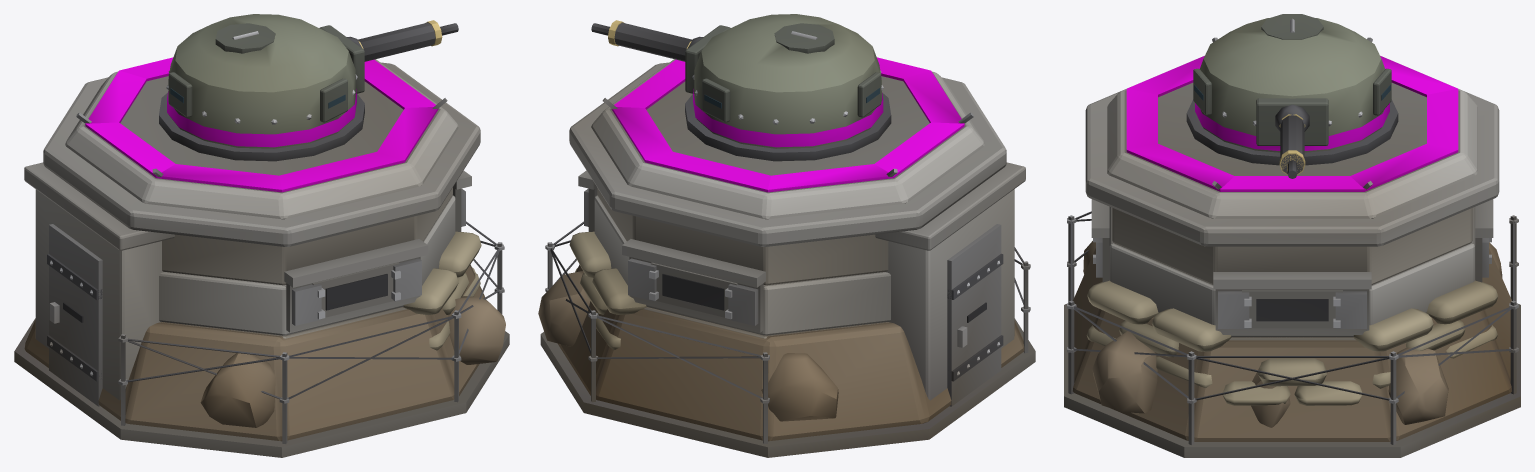
Rendered from pillbox.glb.
The picture shows the model from 3 angles, left to right: view 1: azimuth 30°, elevation 25°; view 2: azimuth 150°, elevation 25°; view 3: azimuth 270°, elevation 25°; orthographic projection.
Visible parts, largest first — view 1: Body, Turret; view 2: Body, Turret; view 3: Body, Turret.
Boxes of the visible parts, x1=… form: Body: x1=14, y1=57, x2=509, y2=457; Turret: x1=159, y1=14, x2=458, y2=161; Body: x1=538, y1=57, x2=1035, y2=457; Turret: x1=591, y1=14, x2=891, y2=161; Body: x1=1064, y1=37, x2=1520, y2=457; Turret: x1=1186, y1=14, x2=1398, y2=178.
Size of the model in its own units: 1.9 by 1.51 by 1.9.
Materials: 1 (1 with a texture image).
